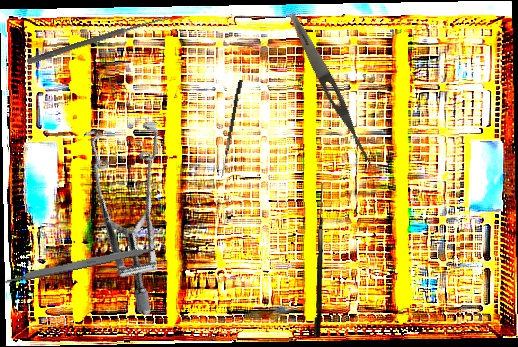Dressing Forceps: (284, 10, 380, 171)
Hook Surgical: (221, 79, 243, 179), (314, 183, 323, 337)
Scalpel Handle: (2, 242, 157, 286)
Speculum: (24, 96, 227, 317)
Surgical Spoon: (26, 13, 170, 66)
